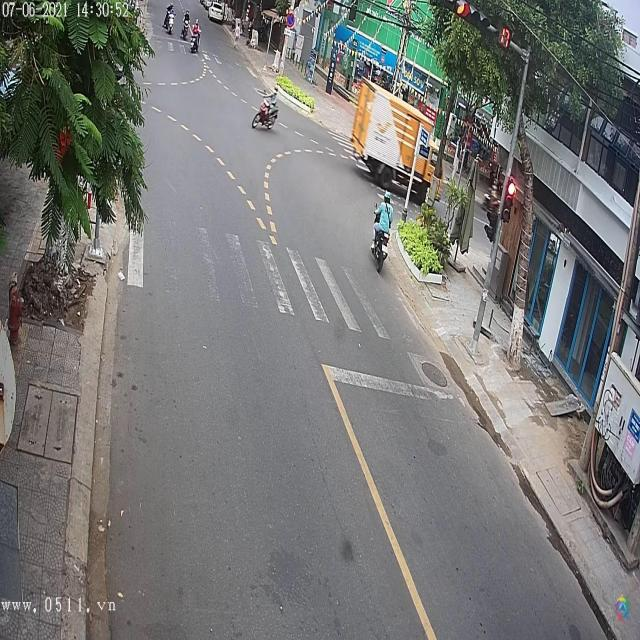motorcycle: (371, 203, 392, 275), (253, 104, 278, 130), (191, 22, 201, 51)
truck: (349, 76, 446, 205)
